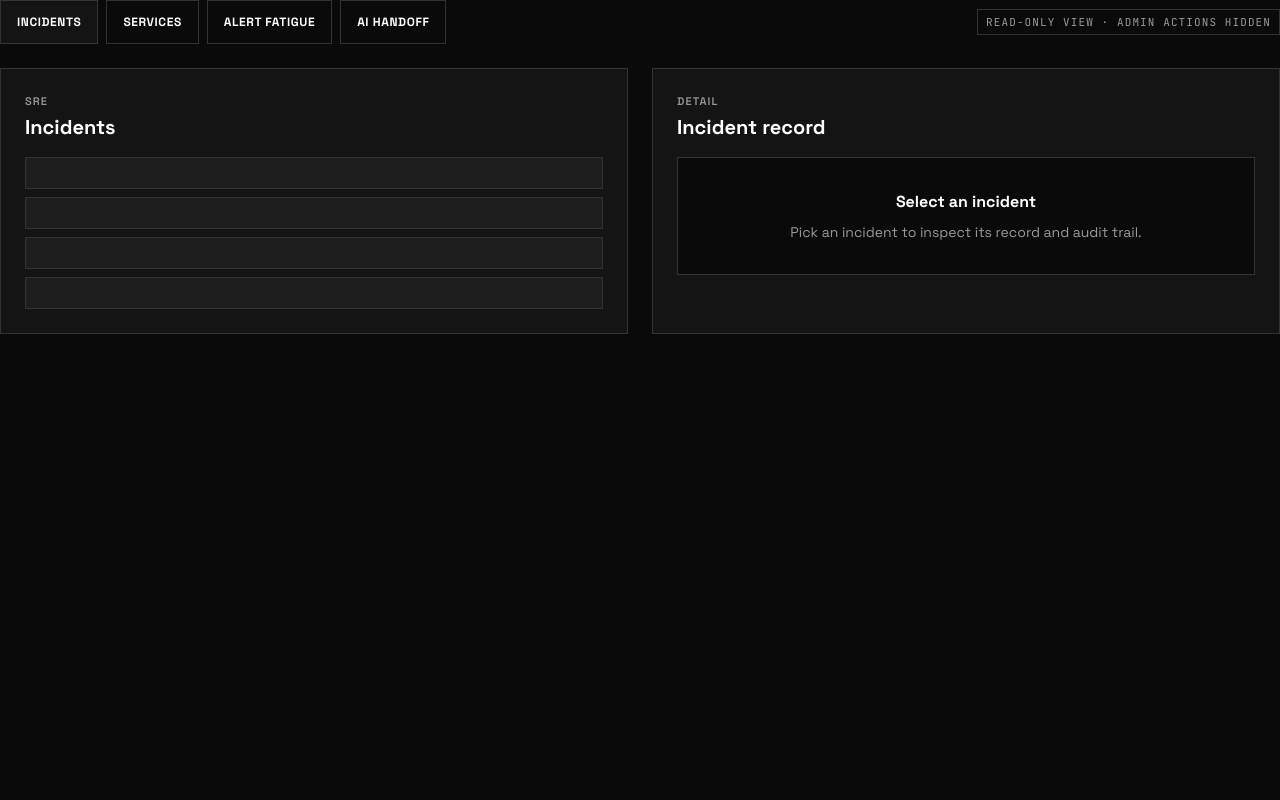
Test: OperationsIntelligence › renders services with dependencies on the services tab
Click the button "Services".
click(153, 22)  # box [106,0,199,44]
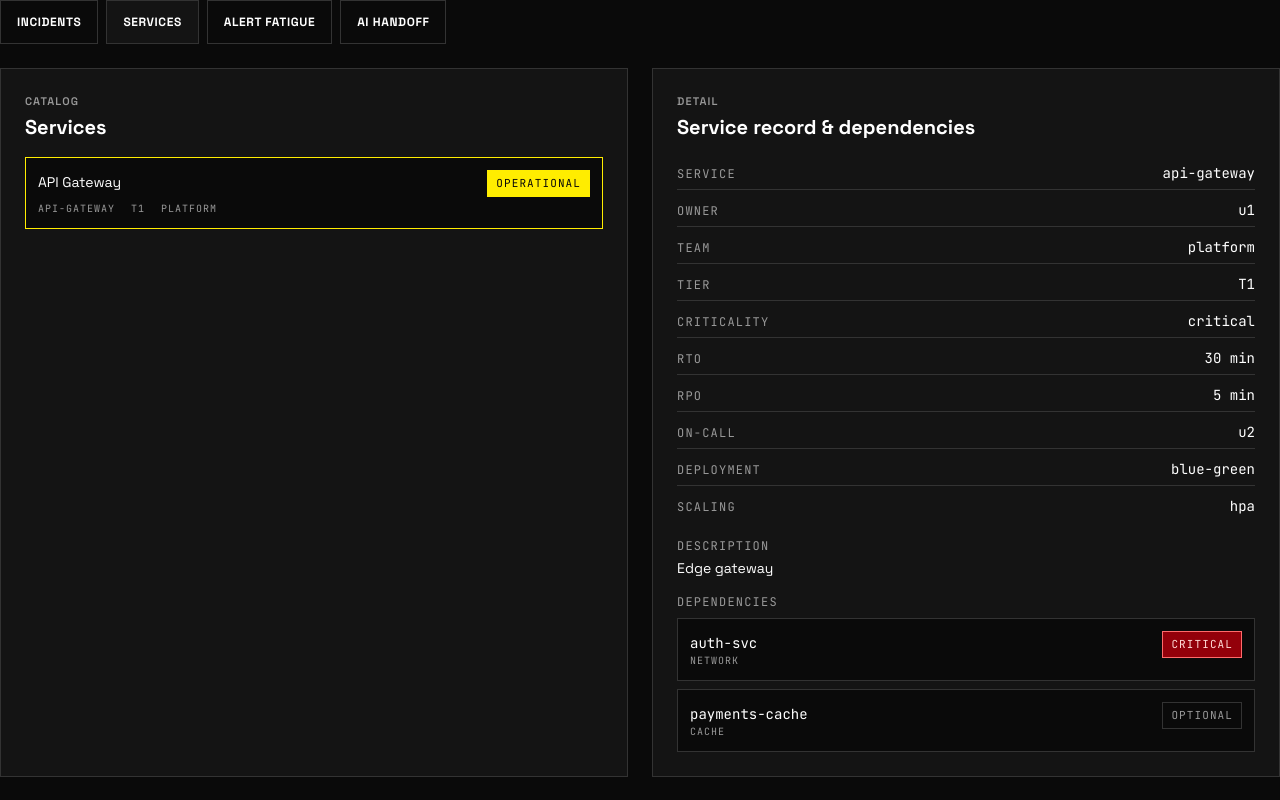
Now the text "API Gateway" is shown, box [38,172,121,192]
Now the text "RTO" is shown, box [677,351,702,367]
Now the text "auth-svc" is shown, box [690,633,757,653]
